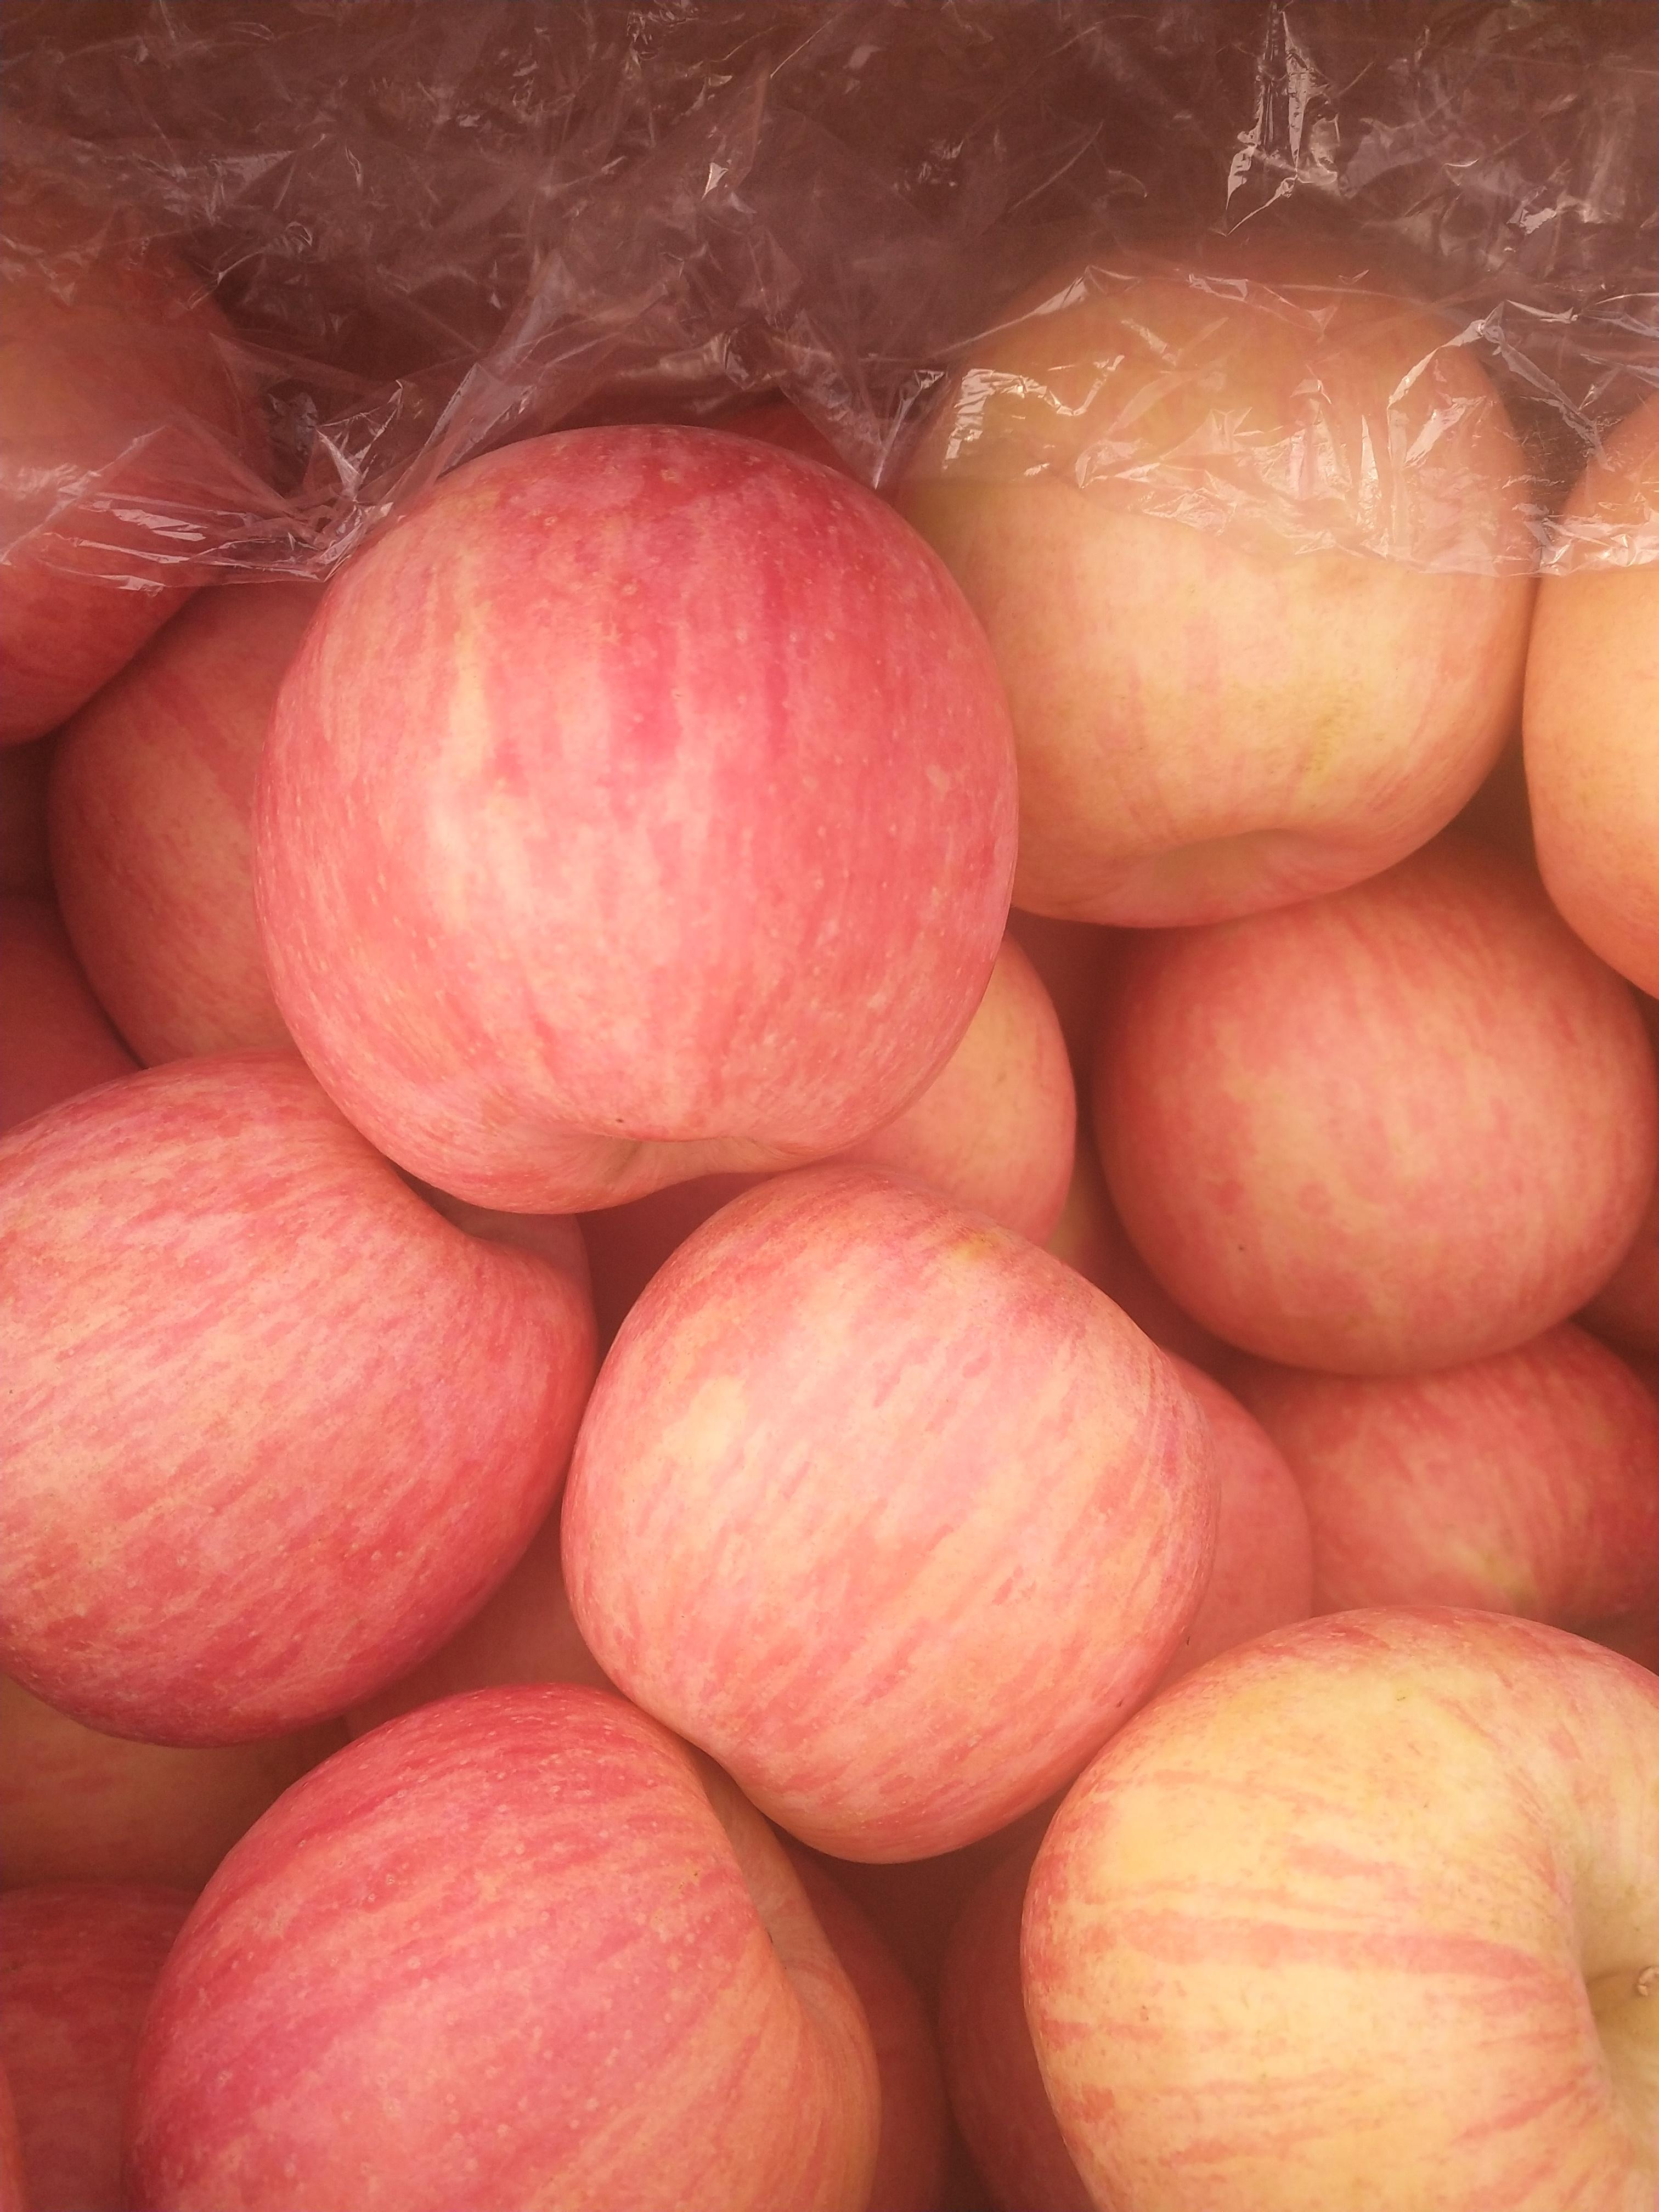apple: (249, 423, 1023, 1202), (551, 1157, 1227, 1858), (882, 266, 1527, 928), (3, 1057, 589, 1763), (119, 1669, 875, 2202), (1011, 1604, 1659, 2212), (1079, 860, 1659, 1360)
